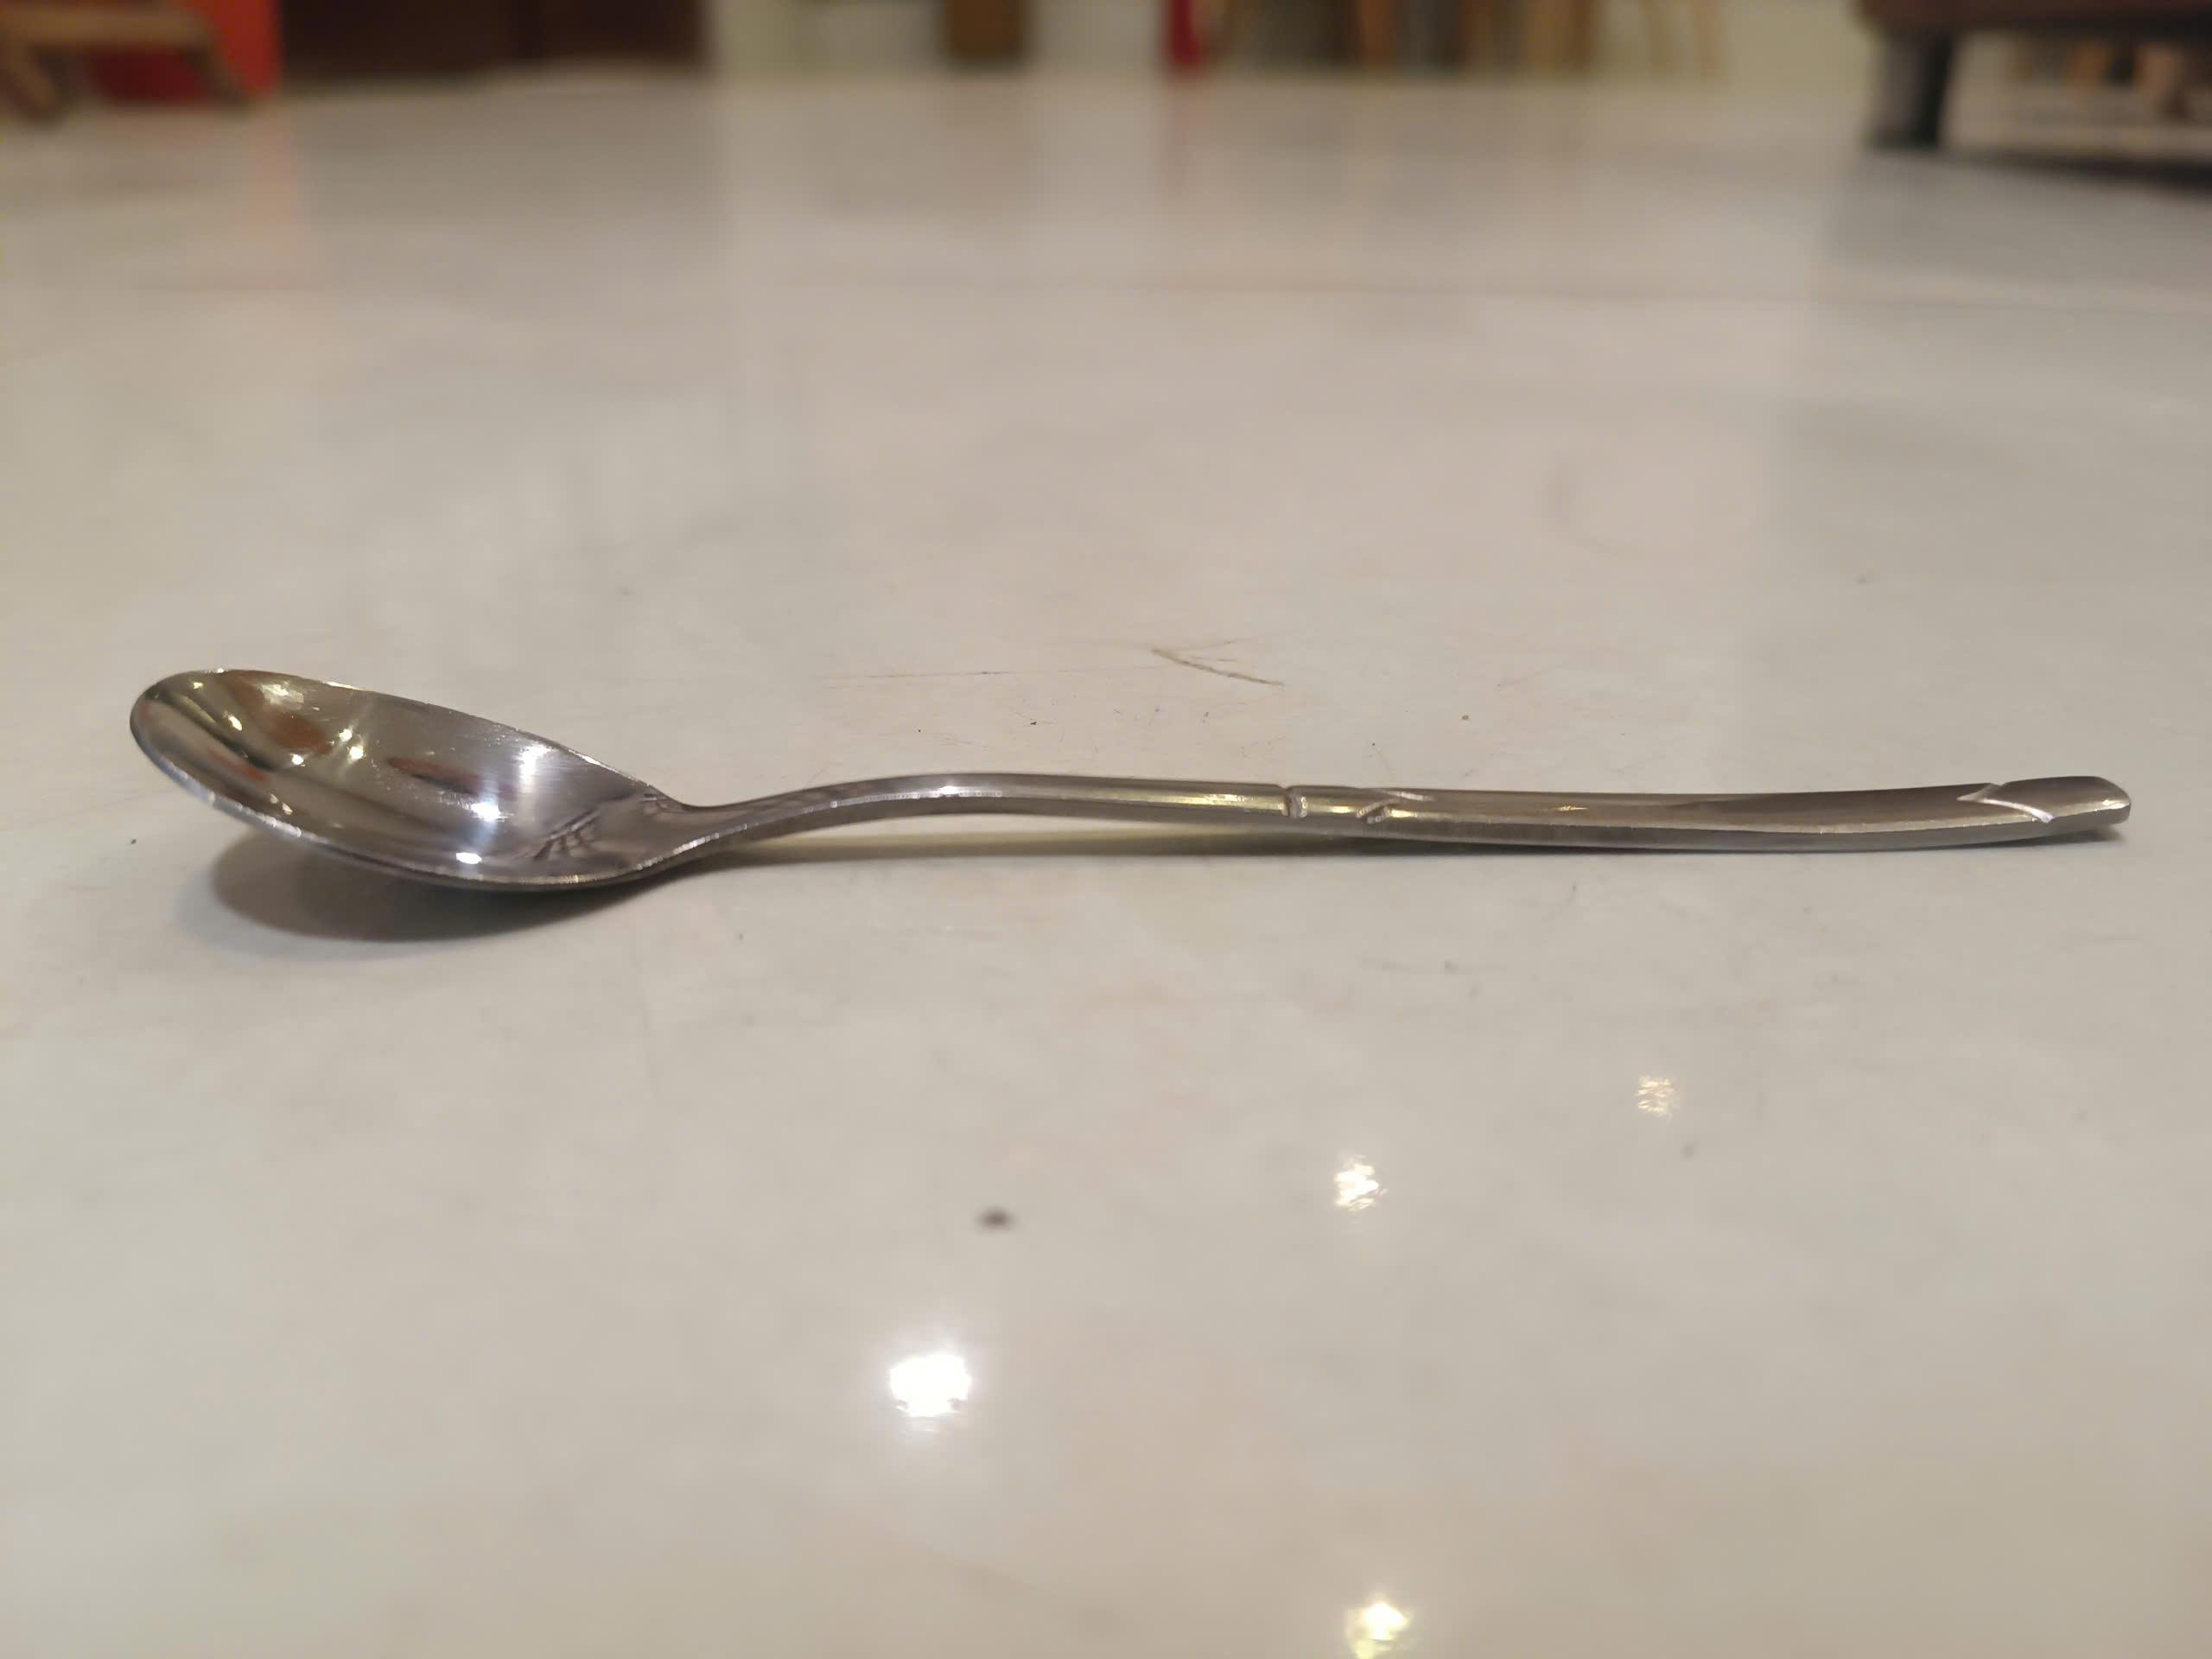Vo co: (136, 669, 2135, 906)
